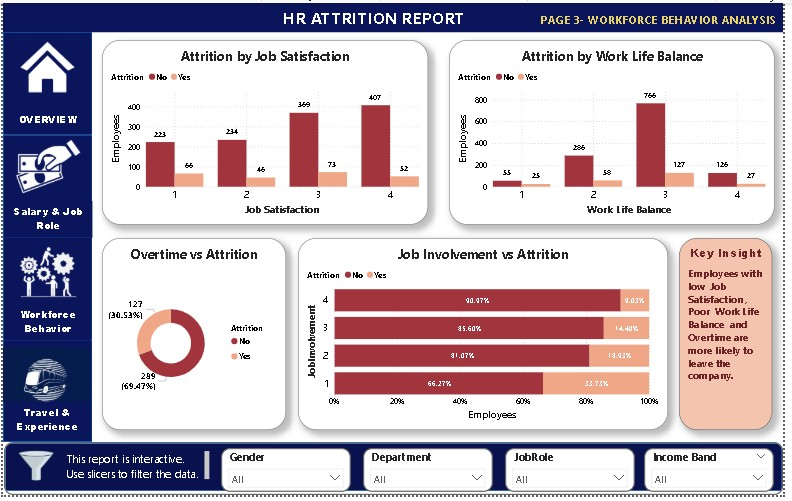

This screenshot's page, from the dashboard's own definition file:
{"tool":"powerbi","page":{"name":"workforce Behavior","canvas":[1280,807],"ordinal":2},"visuals":[{"type":"textbox","box":[-0.2,-0.2,1280.5,48.3],"z":0},{"type":"shape","box":[-0.2,216.3,146.3,168.3],"z":1000},{"type":"shape","box":[-0.2,48,146.3,168],"z":2000},{"type":"shape","box":[-0.2,384.6,146.3,168],"z":3000},{"type":"shape","box":[-0.2,552.8,146.3,167],"z":4000},{"type":"image","box":[11.5,61.2,122.9,89.3],"z":5000},{"type":"image","box":[1.2,216.3,144.9,122.9],"z":6000},{"type":"image","box":[0,384.9,144.9,120],"z":7000},{"type":"textbox","box":[1.2,173.9,143.4,42.4],"z":8000},{"type":"textbox","box":[1.2,324.6,144.9,60],"z":9000},{"type":"textbox","box":[1.2,492.9,143.4,60],"z":10000},{"type":"textbox","box":[1.6,654.5,141.1,62.3],"z":11000},{"type":"actionButton","box":[1.2,48,143.4,168.3],"z":12000},{"type":"actionButton","box":[0,216.6,143.4,168.3],"z":13000},{"type":"actionButton","box":[-0.2,381.7,143.4,168.3],"z":14000},{"type":"actionButton","box":[1.7,553.7,141.8,158.9],"z":15000},{"type":"image","box":[0,550.2,143.4,120],"z":16000},{"type":"clusteredColumnChart","title":"Attrition by Work Life Balance","fields":{"Category":["HR_Attrition_Cleaned.WorkLifeBalance"],"Y":["CountNonNull(HR_Attrition_Cleaned.Attrition)"],"Series":["HR_Attrition_Cleaned.Attrition"]},"box":[730.8,61,534.3,303],"z":17000},{"type":"donutChart","title":"Overtime vs Attrition","fields":{"Y":["CountNonNull(HR_Attrition_Cleaned.Attrition)"],"Category":["HR_Attrition_Cleaned.Attrition"]},"box":[162.4,385.5,301.8,314.9],"z":18000},{"type":"clusteredColumnChart","title":"Attrition by Job Satisfaction","fields":{"Category":["HR_Attrition_Cleaned.JobSatisfaction"],"Y":["CountNonNull(HR_Attrition_Cleaned.Attrition)"],"Series":["HR_Attrition_Cleaned.Attrition"]},"box":[162.4,61,534.7,303],"z":19000},{"type":"hundredPercentStackedBarChart","title":"Job Involvement vs Attrition","fields":{"Category":["HR_Attrition_Cleaned.JobInvolvement"],"Series":["HR_Attrition_Cleaned.Attrition"],"Y":["CountNonNull(HR_Attrition_Cleaned.Attrition)"]},"box":[483.9,385.5,606.9,314.9],"z":20000},{"type":"shape","box":[1.7,719.5,1278.3,87.2],"z":21000},{"type":"slicer","fields":{"Values":["HR_Attrition_Cleaned.Gender"]},"box":[358.3,730,213.3,71.7],"z":22000},{"type":"slicer","fields":{"Values":["HR_Attrition_Cleaned.Department"]},"box":[590,730,213.3,71.7],"z":23000},{"type":"slicer","fields":{"Values":["HR_Attrition_Cleaned.Income Band"]},"box":[1051.7,730,213.3,71.7],"z":24000},{"type":"slicer","fields":{"Values":["HR_Attrition_Cleaned.JobRole"]},"box":[823.3,730,213.3,71.7],"z":25000},{"type":"textbox","box":[98.3,730,245,58.3],"z":26000},{"type":"image","box":[11.7,730,86.7,58.3],"z":27000},{"type":"textbox","title":"Key Insight","box":[1108.8,385.5,152.5,314.9],"z":28000}]}

Visuals, with their boxes in screenshot pixels (x1, y1, x2, y2), scaled from the page's 1280x807 canvas onto the 792x501 screenshot:
textbox: Rect(0, 0, 791, 30)
shape: Rect(0, 134, 90, 239)
shape: Rect(0, 30, 90, 134)
shape: Rect(0, 239, 90, 343)
shape: Rect(0, 343, 90, 447)
image: Rect(7, 38, 83, 93)
image: Rect(1, 134, 90, 211)
image: Rect(0, 239, 90, 313)
textbox: Rect(1, 108, 89, 134)
textbox: Rect(1, 202, 90, 239)
textbox: Rect(1, 306, 89, 343)
textbox: Rect(1, 406, 88, 445)
actionButton: Rect(1, 30, 89, 134)
actionButton: Rect(0, 134, 89, 239)
actionButton: Rect(0, 237, 89, 341)
actionButton: Rect(1, 344, 89, 442)
image: Rect(0, 342, 89, 416)
"Attrition by Work Life Balance" clusteredColumnChart: Rect(452, 38, 783, 226)
"Overtime vs Attrition" donutChart: Rect(100, 239, 287, 435)
"Attrition by Job Satisfaction" clusteredColumnChart: Rect(100, 38, 431, 226)
"Job Involvement vs Attrition" hundredPercentStackedBarChart: Rect(299, 239, 675, 435)
shape: Rect(1, 447, 791, 500)
slicer - HR_Attrition_Cleaned.Gender: Rect(222, 453, 354, 498)
slicer - HR_Attrition_Cleaned.Department: Rect(365, 453, 497, 498)
slicer - HR_Attrition_Cleaned.Income Band: Rect(651, 453, 783, 498)
slicer - HR_Attrition_Cleaned.JobRole: Rect(509, 453, 641, 498)
textbox: Rect(61, 453, 212, 489)
image: Rect(7, 453, 61, 489)
"Key Insight" textbox: Rect(686, 239, 780, 435)
